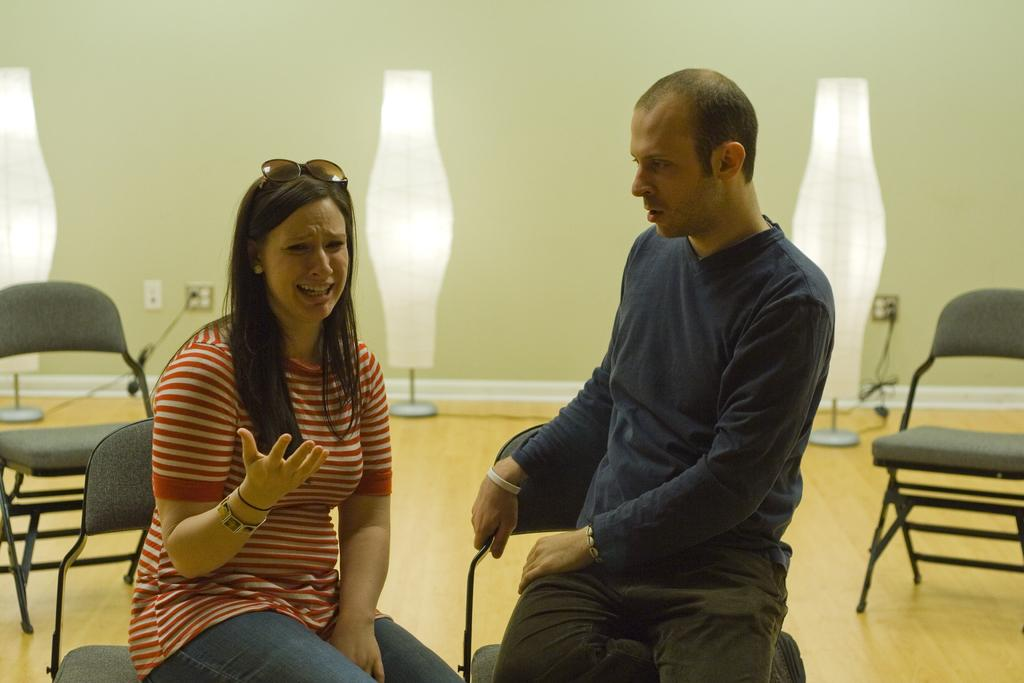Chair: (0, 278, 159, 637), (856, 290, 1024, 629), (42, 422, 156, 682), (459, 423, 550, 682)
